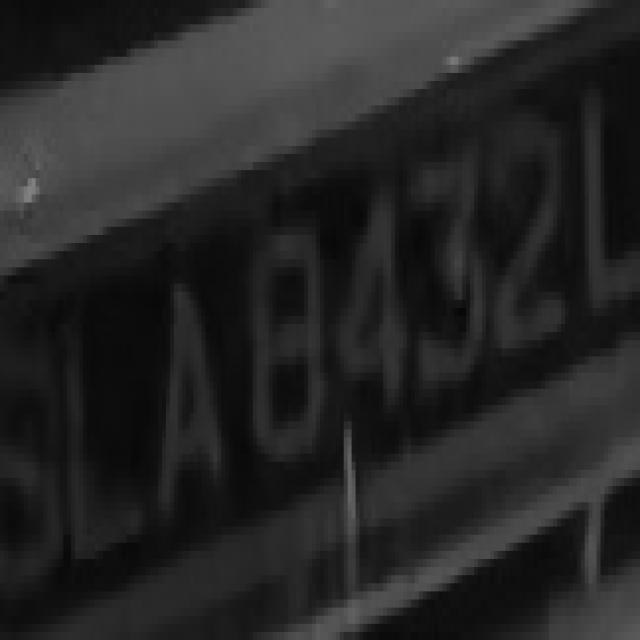2: (478, 89, 569, 405)
3: (403, 146, 486, 429)
4: (328, 162, 411, 446)
8: (249, 186, 328, 470)
A: (138, 292, 229, 534)
L: (55, 300, 162, 575), (565, 24, 640, 340)
S: (8, 332, 67, 632)
